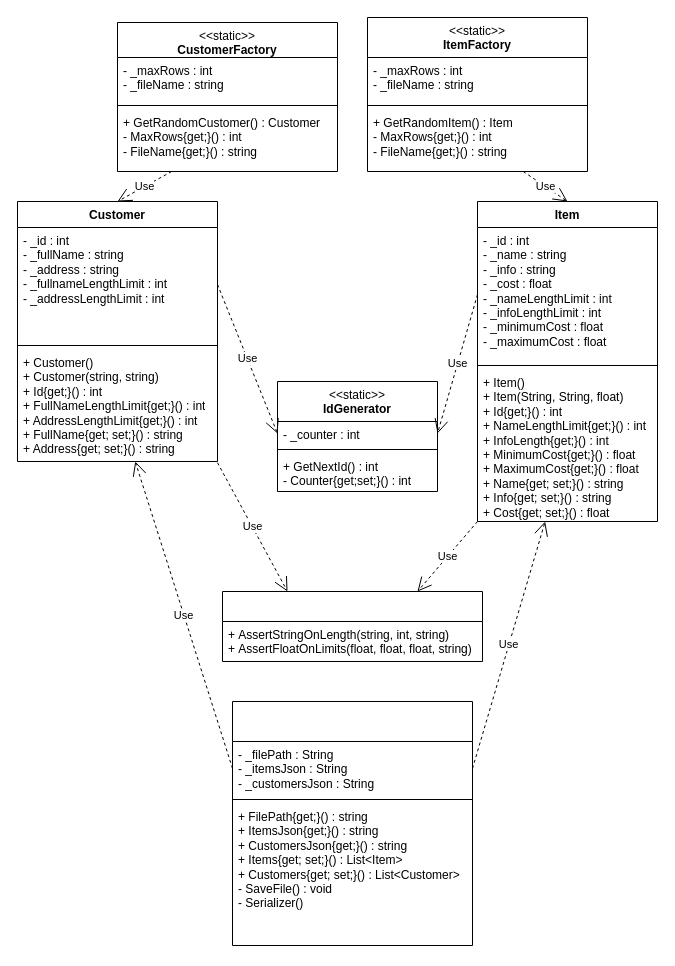
Some shapes in this 675 by 966 pixel diagram are drawn without their labels. The shapes that lost their labels are listed below. From the top down, each one's box as (x1, y1, x2, y2) in pixels, then its label:
(222, 590, 482, 662): <<static>> ValueValidator
(232, 700, 472, 946): <<static>> Serializer
